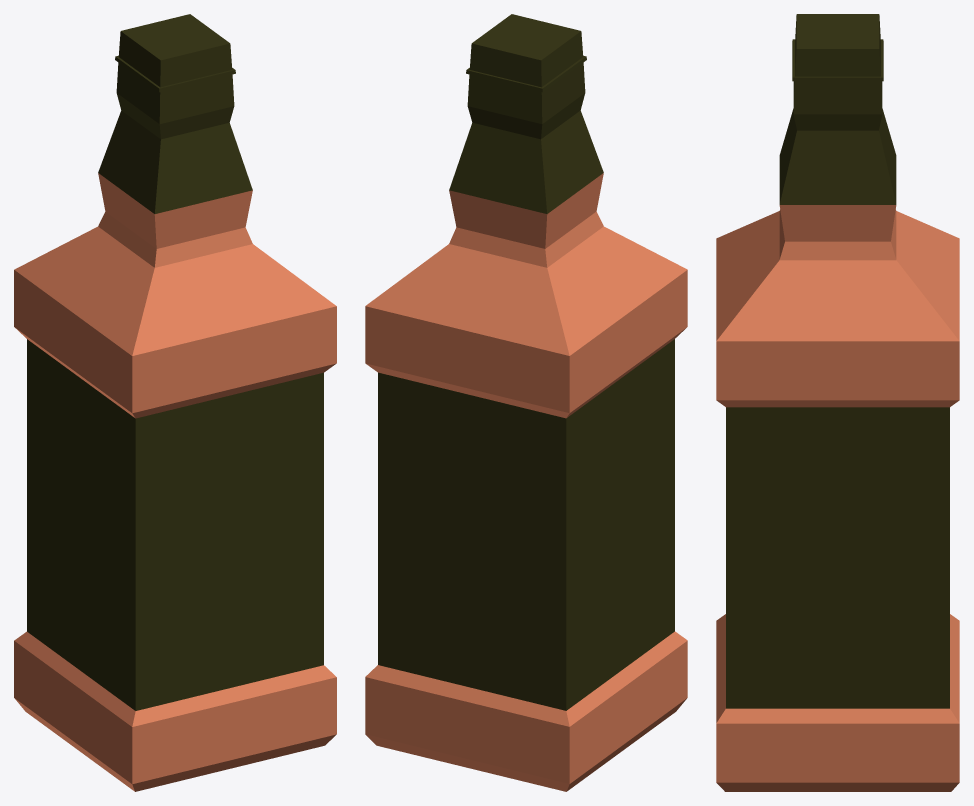
File: bottle1.fbx
The picture shows the model from 3 angles, left to right: view 1: azimuth 30°, elevation 25°; view 2: azimuth 150°, elevation 25°; view 3: azimuth 270°, elevation 25°; orthographic projection. The views are drawn at different scales.
Visible parts, largest first — view 1: Bottle1; view 2: Bottle1; view 3: Bottle1.
Part boxes in pixels (x1,y1,x2,y2): Bottle1: [14, 14, 336, 791]; Bottle1: [365, 14, 687, 791]; Bottle1: [716, 14, 959, 791].
Size of the model in its own units: 7.67 by 24.77 by 7.67.
